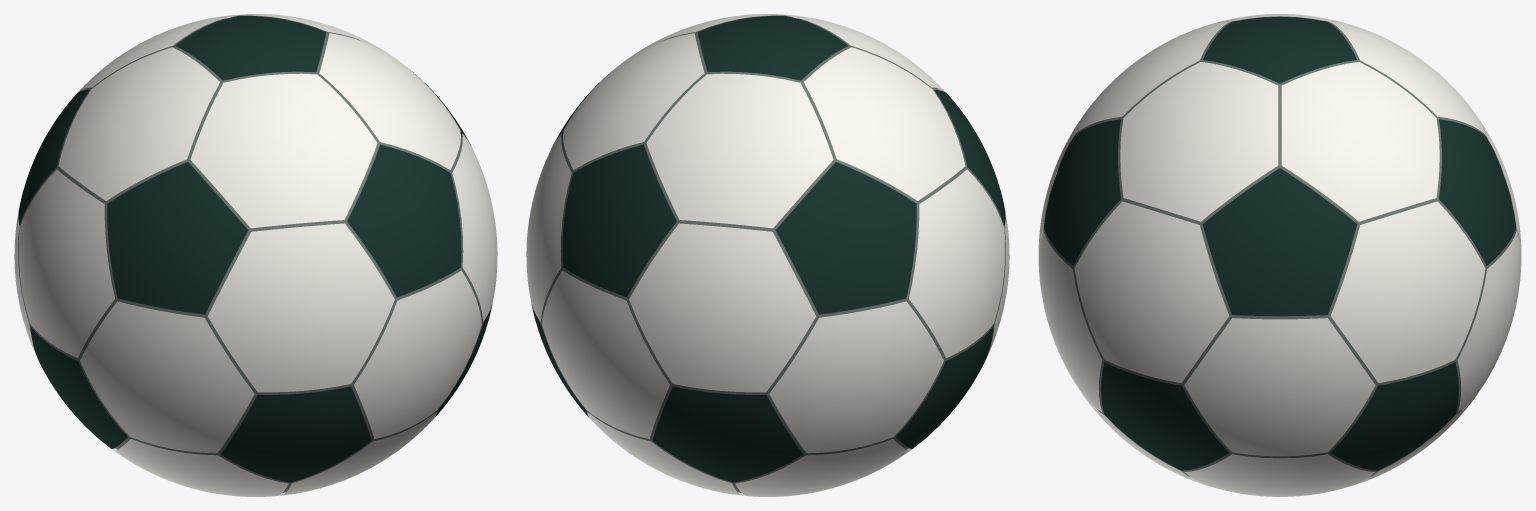
Rendered from A-selector-ball.glb.
3 renders of one model, left to right at view 1: azimuth 30°, elevation 25°; view 2: azimuth 150°, elevation 25°; view 3: azimuth 270°, elevation 25°, orthographic.
Visible parts, largest first — view 1: Football / hexagon 23, Football / hexagon 28, Football / hexagon 19, Football / pentagon 07, Football / hexagon 29, Football / hexagon 24, Football / hexagon 18, Football / pentagon 06, Football / pentagon 02, Football / hexagon 27, Football / recessed seams, Football / pentagon 11 (+8 smaller); view 2: Football / hexagon 25, Football / hexagon 30, Football / hexagon 20, Football / pentagon 08, Football / hexagon 29, Football / hexagon 24, Football / hexagon 21, Football / pentagon 09, Football / pentagon 04, Football / hexagon 31, Football / recessed seams, Football / pentagon 11 (+8 smaller); view 3: Football / hexagon 17, Football / hexagon 22, Football / hexagon 26, Football / hexagon 27, Football / hexagon 31, Football / pentagon 10, Football / recessed seams, Football / pentagon 01, Football / pentagon 05, Football / pentagon 06, Football / pentagon 09, Football / pentagon 11 (+7 smaller).
Part boxes in pixels (x1,y1,x2,y2): Football / hexagon 23: [208, 223, 394, 392]; Football / hexagon 28: [190, 73, 377, 228]; Football / hexagon 19: [80, 301, 254, 453]; Football / pentagon 07: [107, 162, 248, 314]; Football / hexagon 29: [58, 47, 220, 200]; Football / hexagon 24: [18, 169, 114, 358]; Football / hexagon 18: [354, 270, 481, 438]; Football / pentagon 06: [347, 144, 461, 297]; Football / pentagon 02: [220, 386, 371, 482]; Football / hexagon 27: [319, 33, 460, 169]; Football / recessed seams: [18, 16, 485, 492]; Football / pentagon 11: [175, 15, 326, 80]; Football / hexagon 25: [629, 223, 815, 392]; Football / hexagon 30: [646, 73, 833, 228]; Football / hexagon 20: [769, 301, 943, 453]; Football / pentagon 08: [775, 162, 916, 314]; Football / hexagon 29: [803, 47, 965, 200]; Football / hexagon 24: [909, 169, 1005, 358]; Football / hexagon 21: [542, 270, 669, 438]; Football / pentagon 09: [562, 144, 676, 297]; Football / pentagon 04: [652, 386, 803, 482]; Football / hexagon 31: [563, 33, 704, 169]; Football / recessed seams: [538, 16, 1005, 492]; Football / pentagon 11: [697, 15, 848, 80]; Football / hexagon 17: [1184, 318, 1375, 456]; Football / hexagon 22: [1074, 201, 1228, 382]; Football / hexagon 26: [1331, 201, 1485, 382]; Football / hexagon 27: [1120, 62, 1278, 221]; Football / hexagon 31: [1281, 62, 1439, 221]; Football / pentagon 10: [1202, 168, 1357, 316]; Football / recessed seams: [1043, 16, 1516, 476]; Football / pentagon 01: [1101, 362, 1229, 470]; Football / pentagon 05: [1330, 362, 1458, 470]; Football / pentagon 06: [1044, 119, 1120, 265]; Football / pentagon 09: [1439, 119, 1515, 265]; Football / pentagon 11: [1203, 17, 1356, 83].
Bounding box in the file's own units: 0.02 × 0.02 × 0.02.
